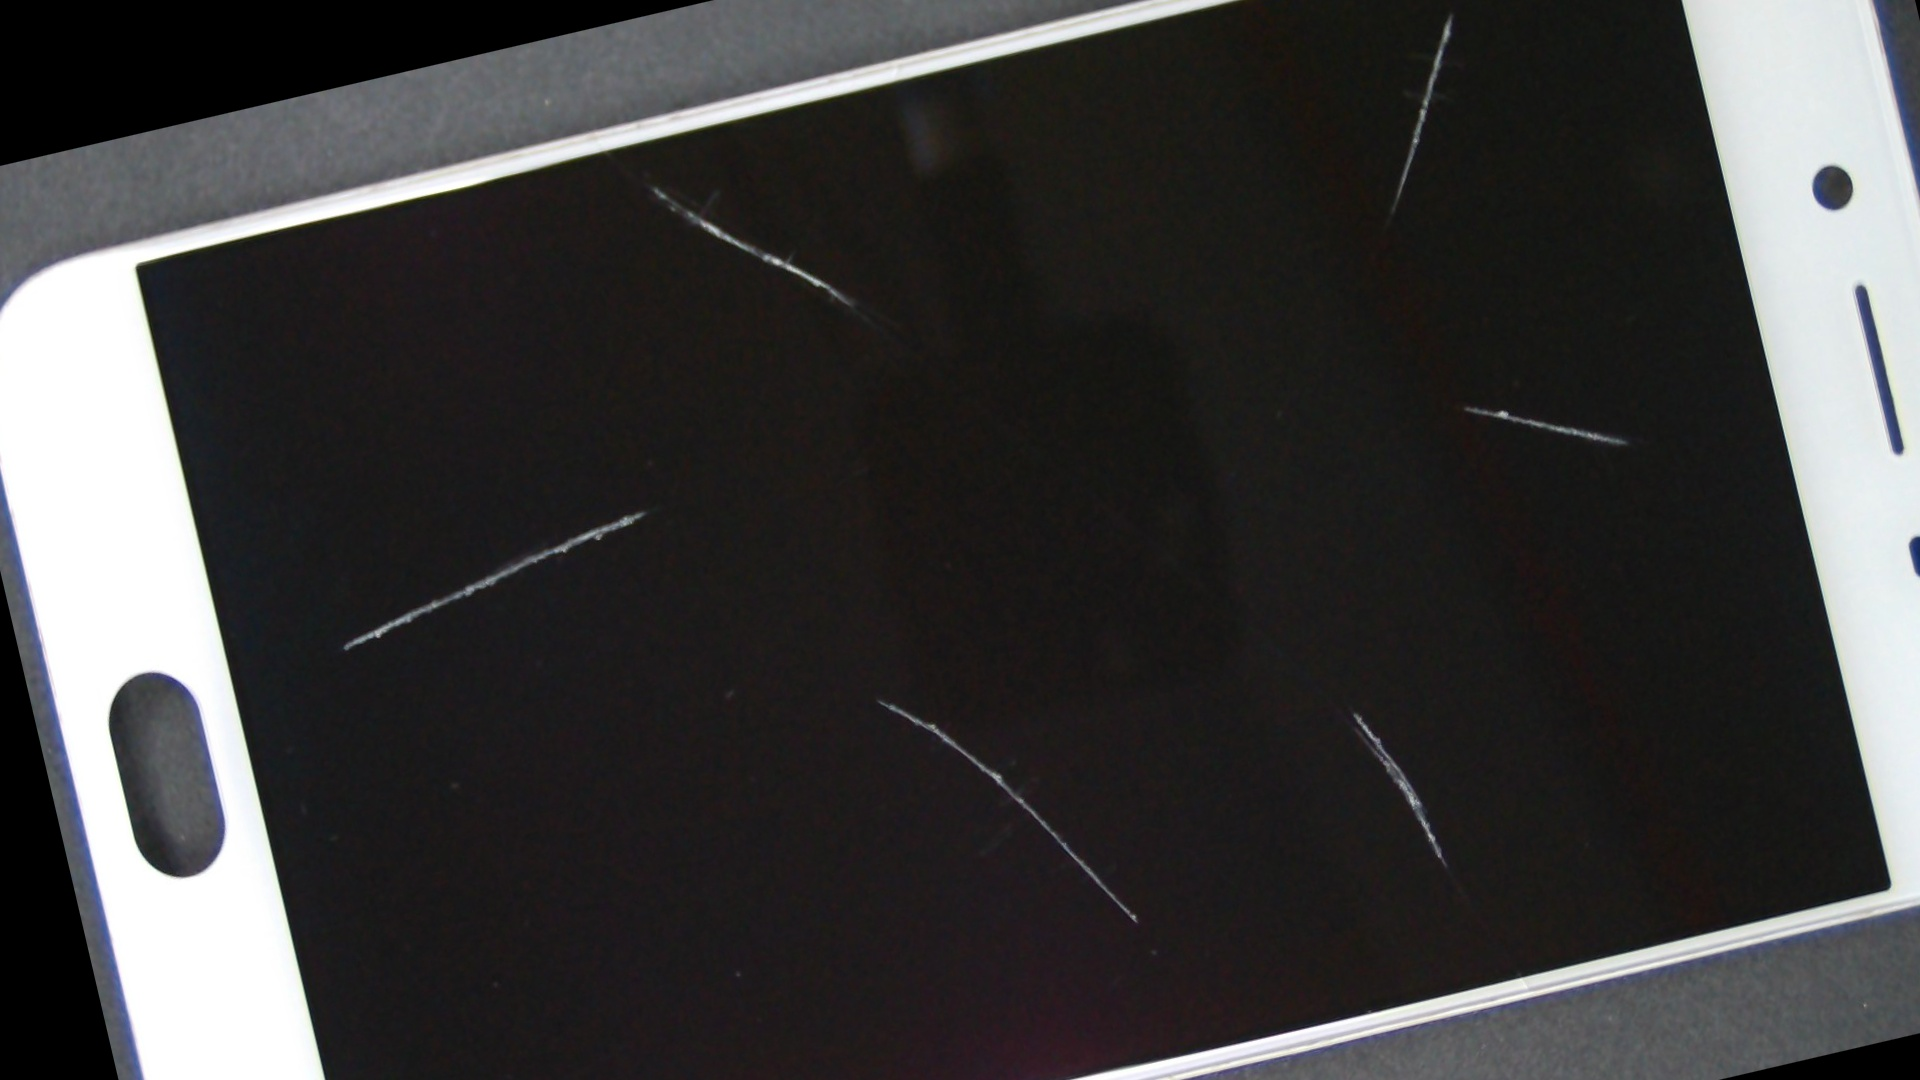oil: (633, 158, 1920, 1080), (688, 9, 1920, 845), (396, 255, 1362, 1080), (272, 207, 992, 819), (680, 0, 1916, 280), (281, 21, 1021, 347)
